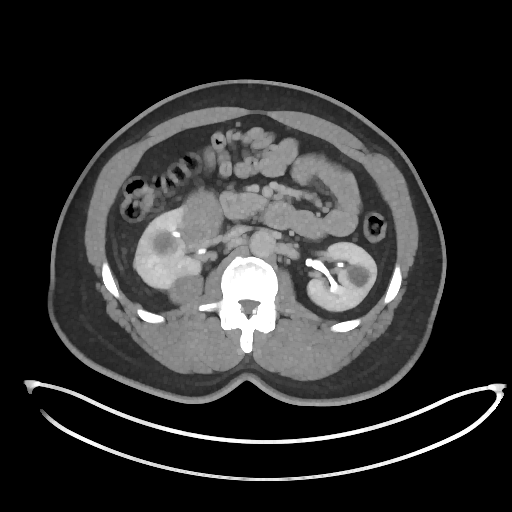Lesion: (177, 187, 225, 251)
